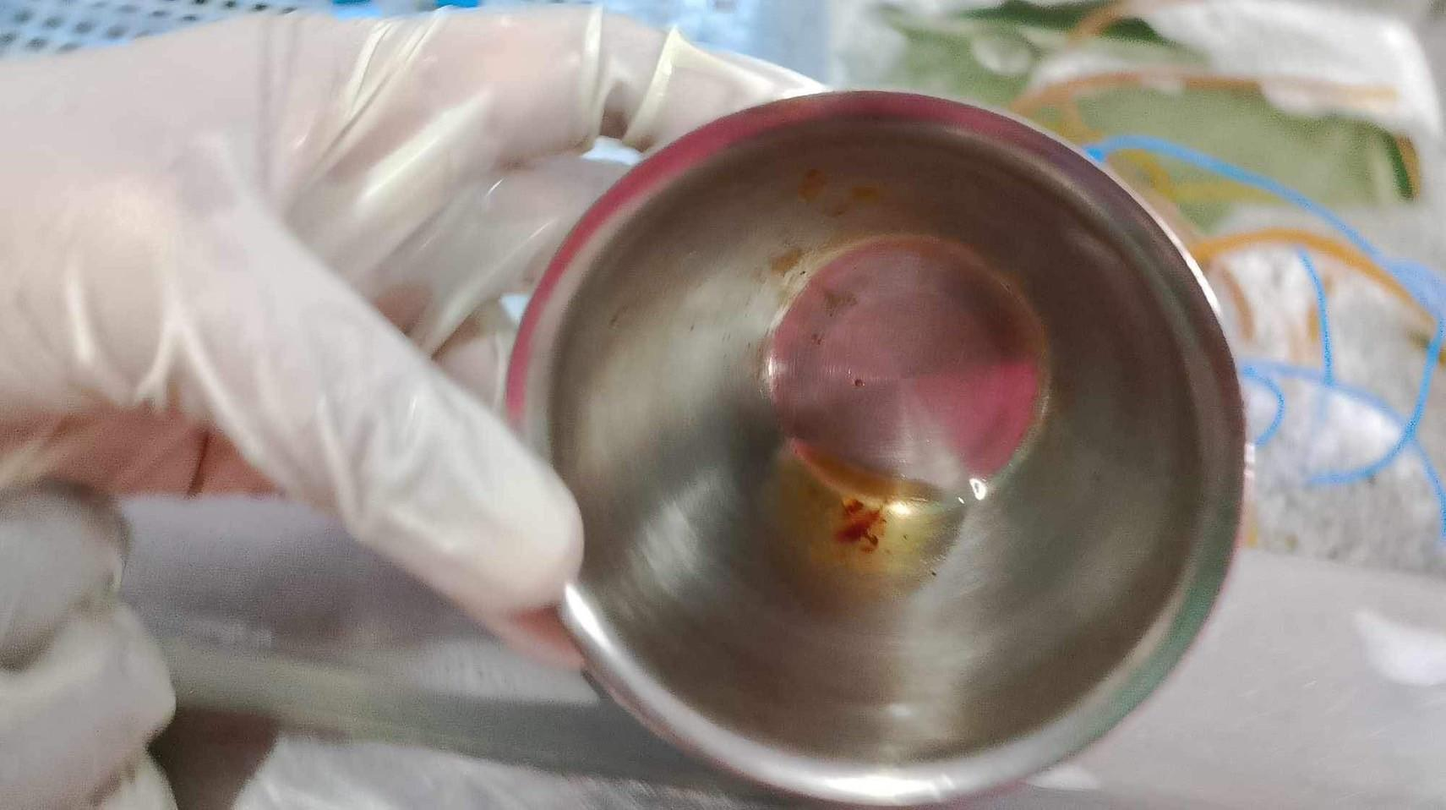General: (499, 85, 1252, 804)
Infectious: (1, 3, 838, 806)
